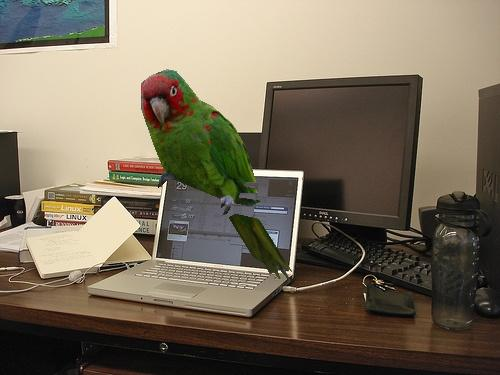tampered: (142, 70, 292, 283)
